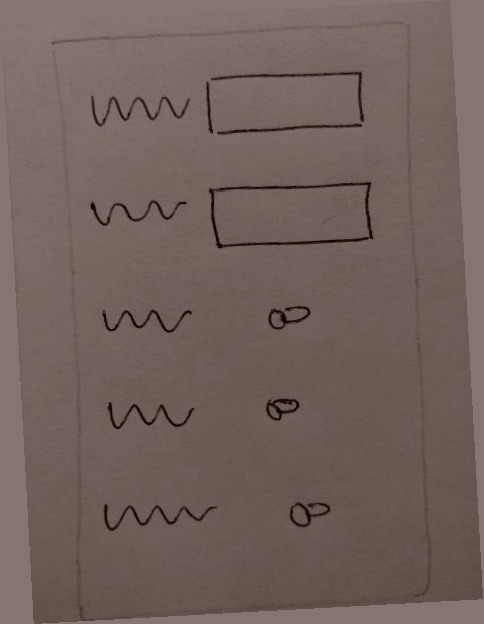image: (95, 483, 224, 541), (99, 382, 203, 444), (84, 184, 196, 238), (97, 292, 196, 343)
switch: (259, 292, 319, 339), (278, 489, 342, 533), (260, 385, 311, 430)
text: (78, 77, 195, 136)
text_input: (204, 170, 380, 261), (199, 58, 374, 147)
